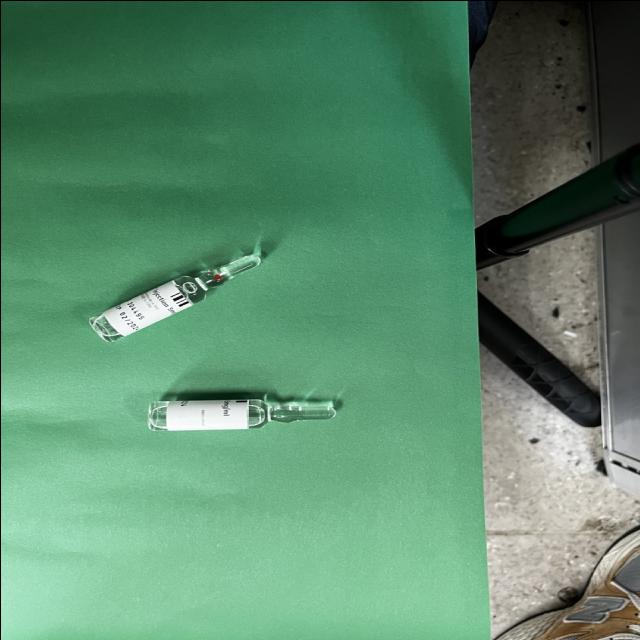Ampoules: (88, 252, 261, 340), (147, 397, 336, 430)
